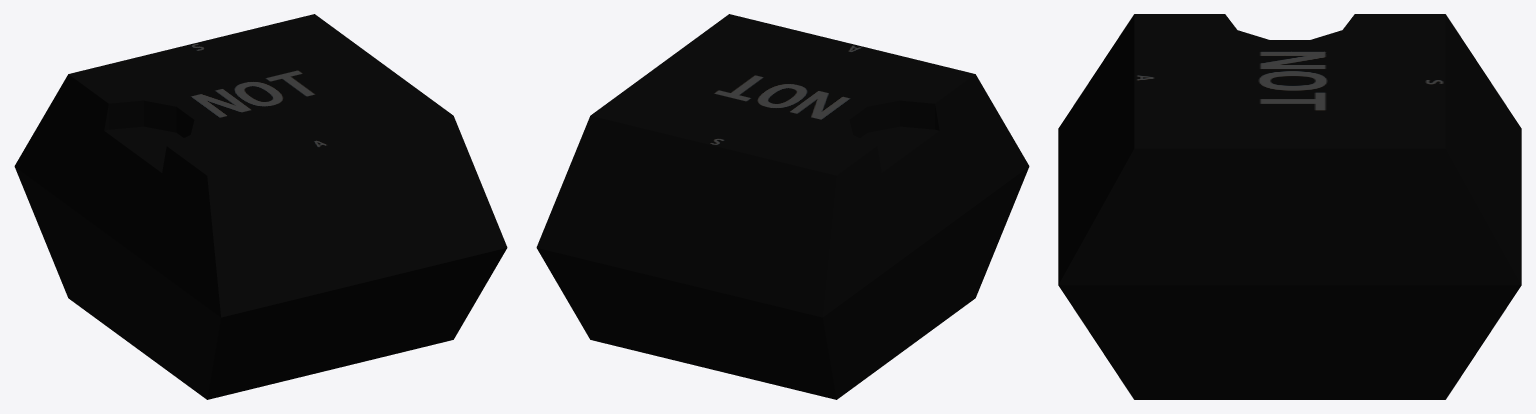
The model's file is modelT.obj.
The picture shows the model from 3 angles, left to right: view 1: azimuth 30°, elevation 25°; view 2: azimuth 150°, elevation 25°; view 3: azimuth 270°, elevation 25°; orthographic projection. The views are drawn at different scales.
Visible parts, largest first — view 1: Cube.016_Cube.001; view 2: Cube.016_Cube.001; view 3: Cube.016_Cube.001.
Boxes of the visible parts, left/top/right/bottom form: Cube.016_Cube.001: left=14, top=14, right=507, bottom=399; Cube.016_Cube.001: left=536, top=14, right=1029, bottom=399; Cube.016_Cube.001: left=1058, top=14, right=1521, bottom=399.
Bounding box in the file's own units: 0.8 × 0.5984 × 1.
Materials: 1 (1 with a texture image).
